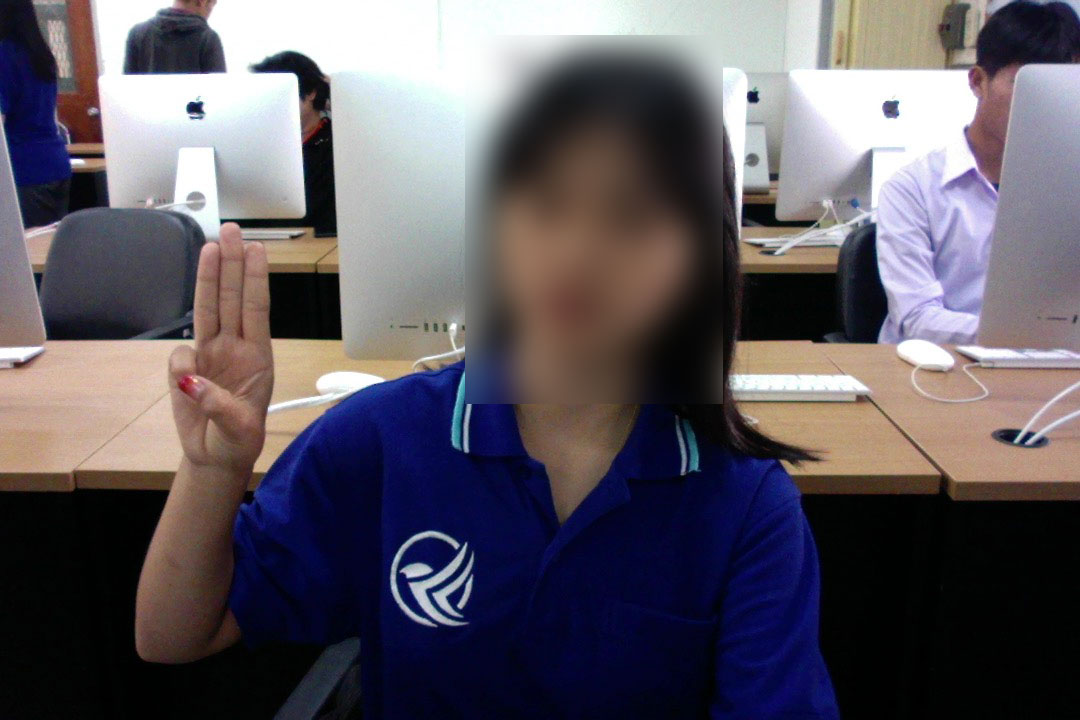wor: (160, 211, 281, 479)
